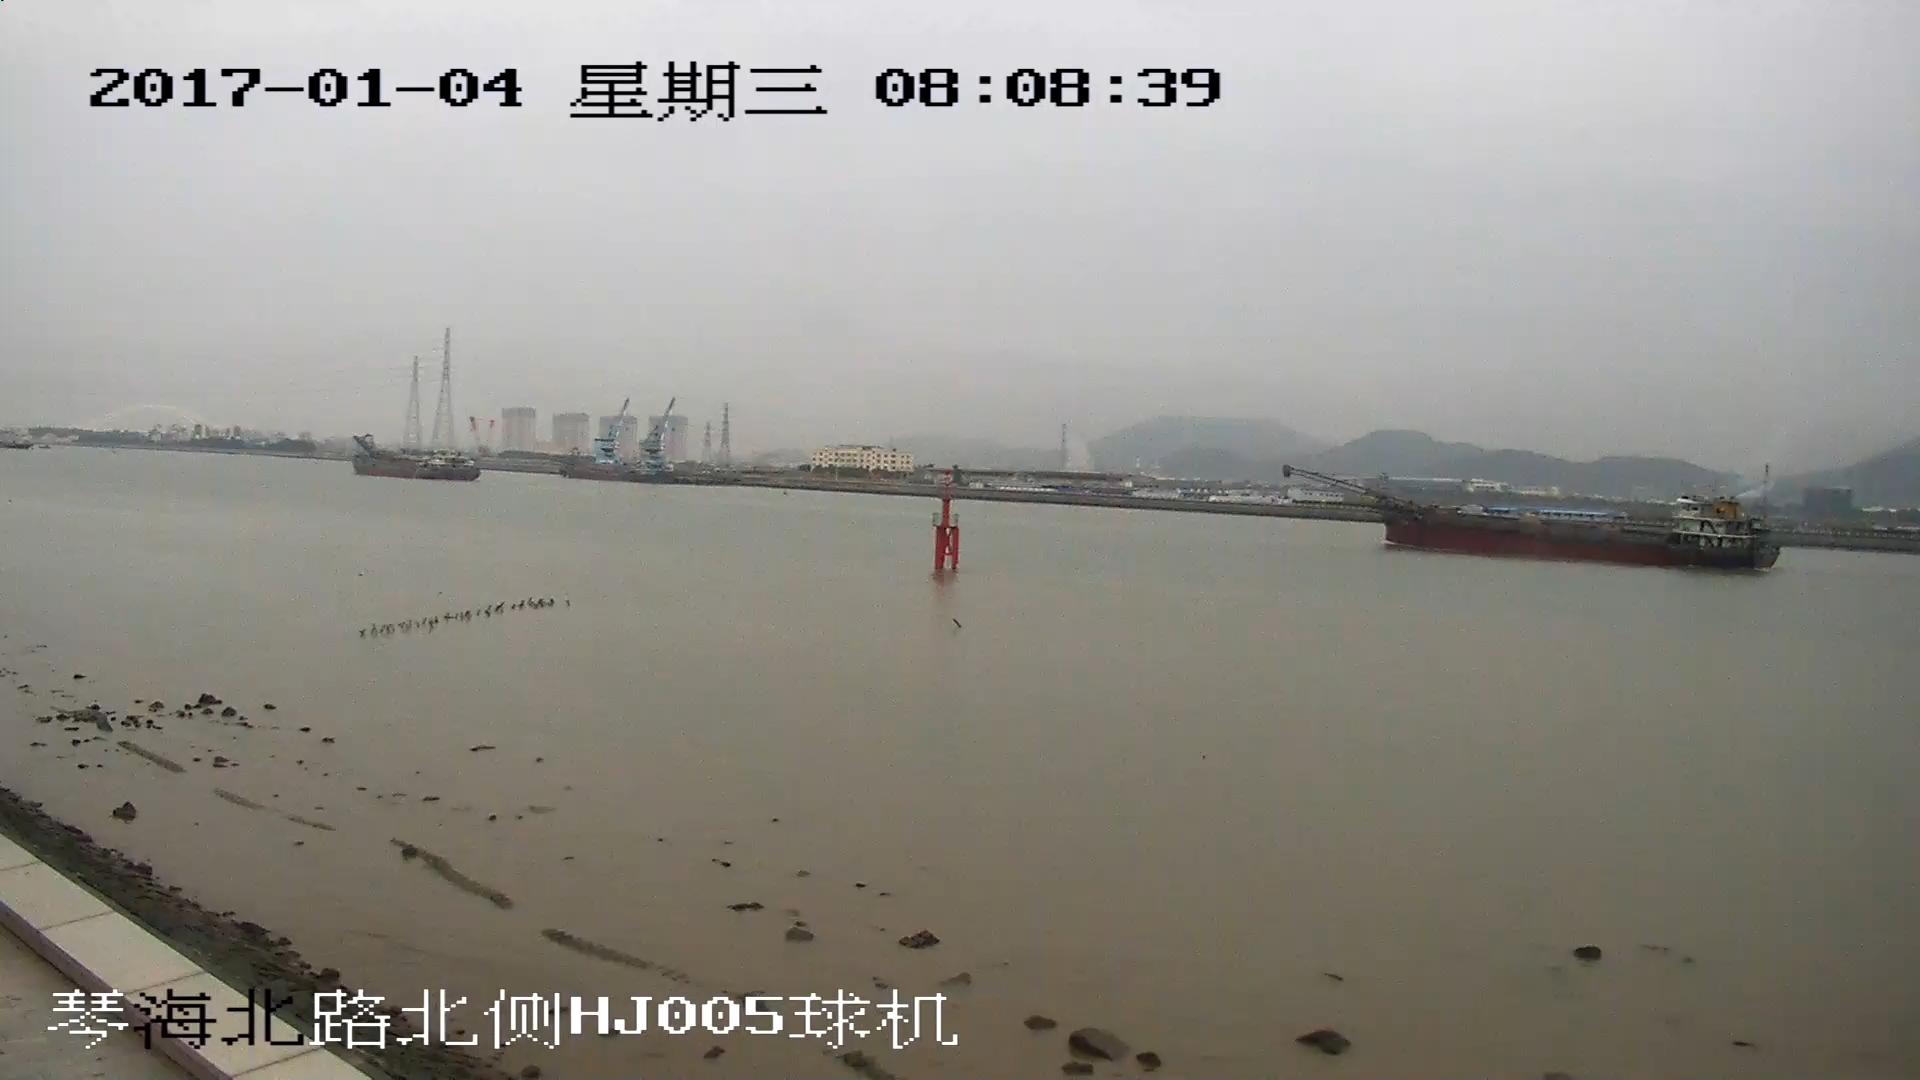bulk cargo carrier: (1287, 467, 1779, 573), (354, 437, 481, 483)
